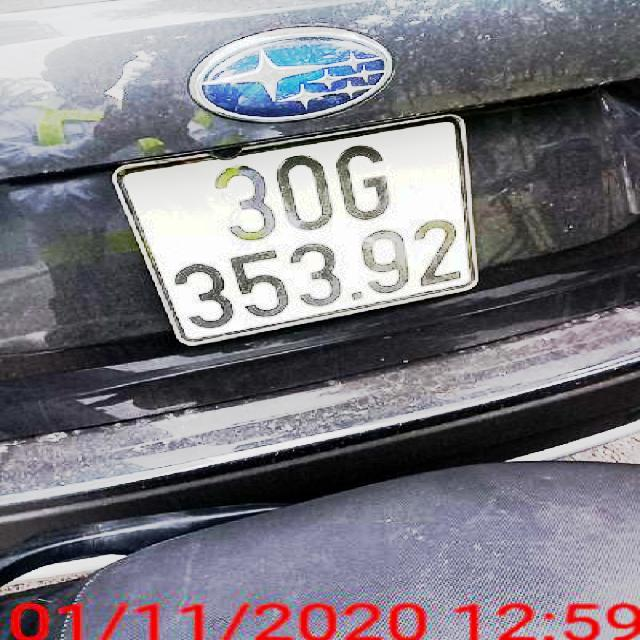license_plate: (123, 117, 478, 343)
